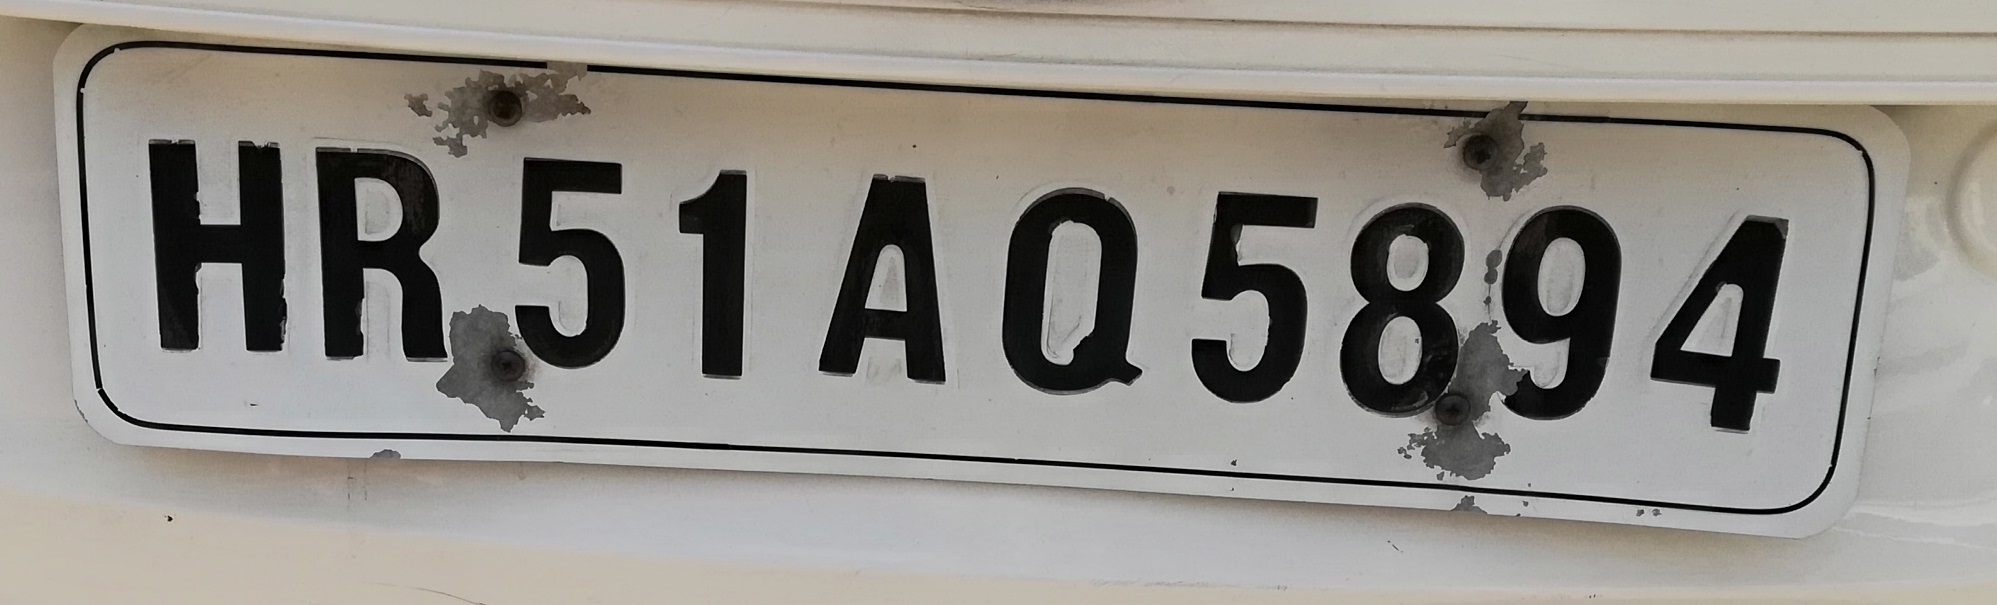numberplate: (55, 13, 1906, 533)
